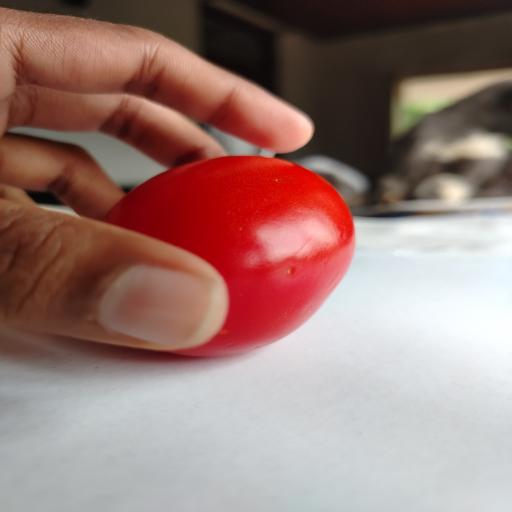ripe: (105, 156, 355, 356)
